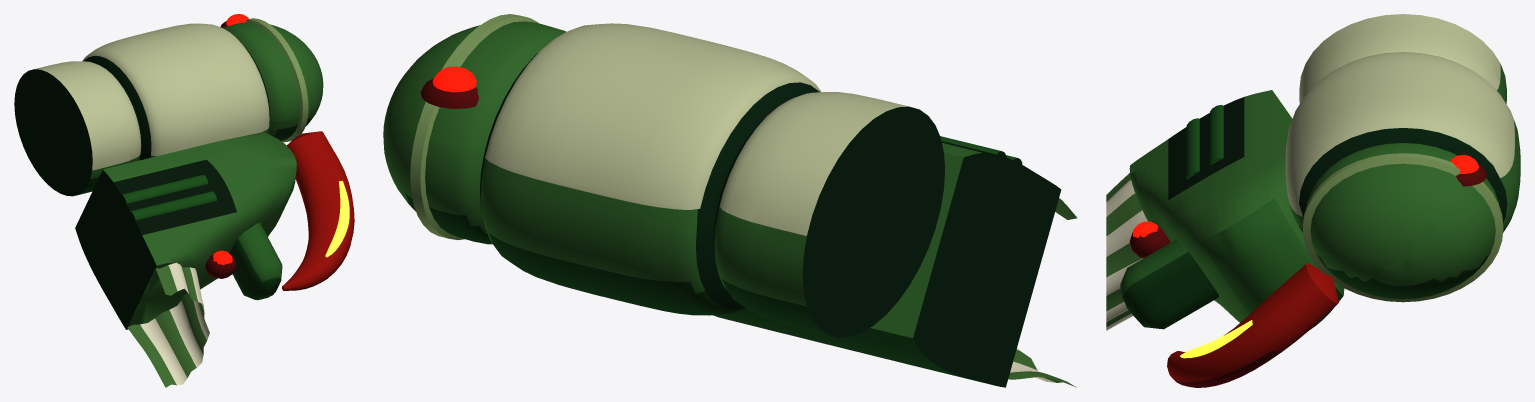
File: green_tower_tr.glb
3 renders of one model, left to right at view 1: azimuth 30°, elevation 25°; view 2: azimuth 150°, elevation 25°; view 3: azimuth 270°, elevation 25°, orthographic. The views are drawn at different scales.
Visible parts, largest first — view 1: pod.001, neck.001, claw1.001, stem.001, prong1.001, cap_rib1.001, slat0.001, slat1.001, slit1.001, neck_lamp_seat1.001; view 2: pod.001, neck.001, cap_rib1.001, stem.001, lamp_seat1.001, lamp1.001; view 3: pod.001, neck.001, claw1.001, prong1.001, cap_rib1.001, stem.001, slat1.001, slat0.001, neck_lamp_seat1.001, slit1.001, lamp_seat1.001, lamp1.001.
Boxes of the visible parts, bbox=[...] form: pod.001: bbox=[14, 22, 323, 196]; neck.001: bbox=[75, 132, 296, 329]; claw1.001: bbox=[282, 131, 354, 290]; stem.001: bbox=[127, 262, 209, 387]; prong1.001: bbox=[230, 223, 282, 300]; cap_rib1.001: bbox=[246, 18, 308, 142]; slat0.001: bbox=[130, 191, 216, 221]; slat1.001: bbox=[121, 174, 208, 205]; slit1.001: bbox=[325, 181, 349, 257]; neck_lamp_seat1.001: bbox=[205, 251, 236, 278]; pod.001: bbox=[383, 21, 944, 337]; neck.001: bbox=[713, 141, 1061, 387]; cap_rib1.001: bbox=[410, 14, 538, 239]; stem.001: bbox=[1008, 198, 1077, 387]; lamp_seat1.001: bbox=[420, 78, 479, 108]; lamp1.001: bbox=[432, 66, 476, 92]; pod.001: bbox=[1285, 14, 1520, 299]; neck.001: bbox=[1129, 90, 1344, 329]; claw1.001: bbox=[1167, 263, 1338, 387]; prong1.001: bbox=[1120, 239, 1218, 329]; cap_rib1.001: bbox=[1303, 153, 1503, 302]; stem.001: bbox=[1106, 173, 1147, 330]; slat1.001: bbox=[1210, 105, 1223, 165]; slat0.001: bbox=[1186, 118, 1199, 179]; neck_lamp_seat1.001: bbox=[1129, 225, 1170, 258]; slit1.001: bbox=[1180, 320, 1252, 358]; lamp_seat1.001: bbox=[1456, 164, 1486, 186]; lamp1.001: bbox=[1450, 155, 1478, 173].
Size of the model in its own units: 23.1 by 20.3 by 24.15.
